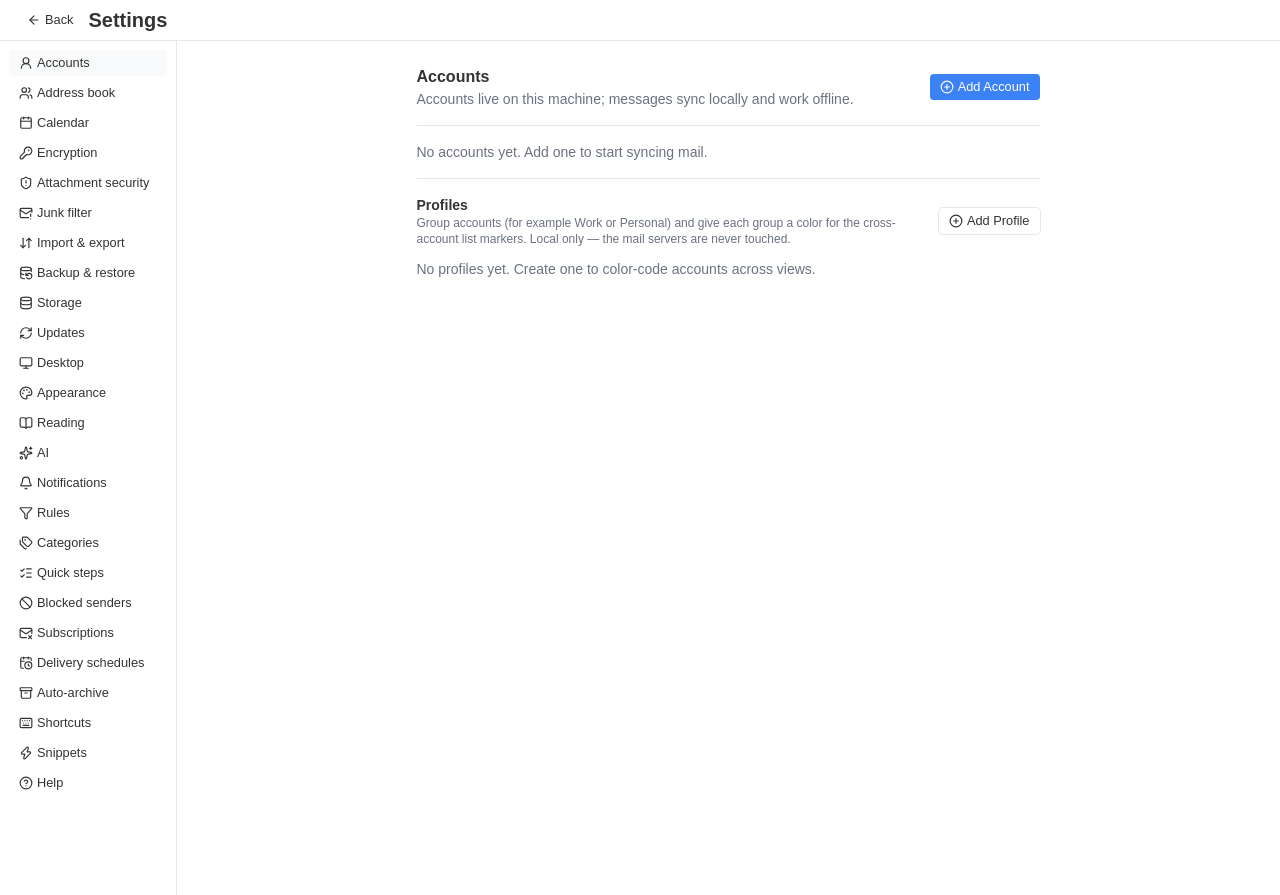
settings page navigation › renders the six sections in the nav and switches between them
expect the navigation bar named "Settings sections" shows "Accounts": met, box [8,49,168,77]
expect the navigation bar named "Settings sections" shows "Encryption": met, box [8,139,168,167]
Click the button "Appearance" at (88, 393), box [8,379,168,407]
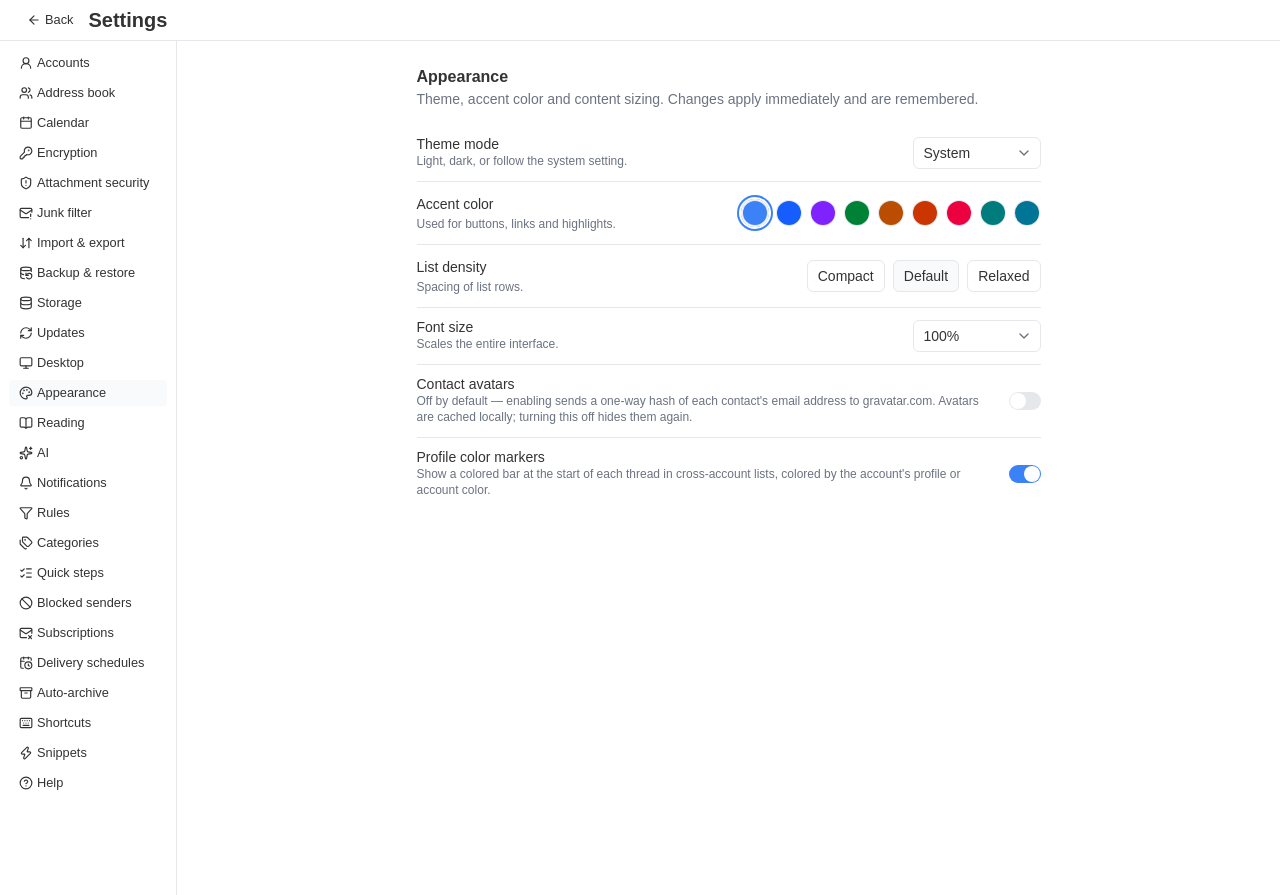
expect the heading "Appearance" is shown: met, box [416,68,508,85]
Click the button "Reading" at (88, 423), box [8,409,168,437]
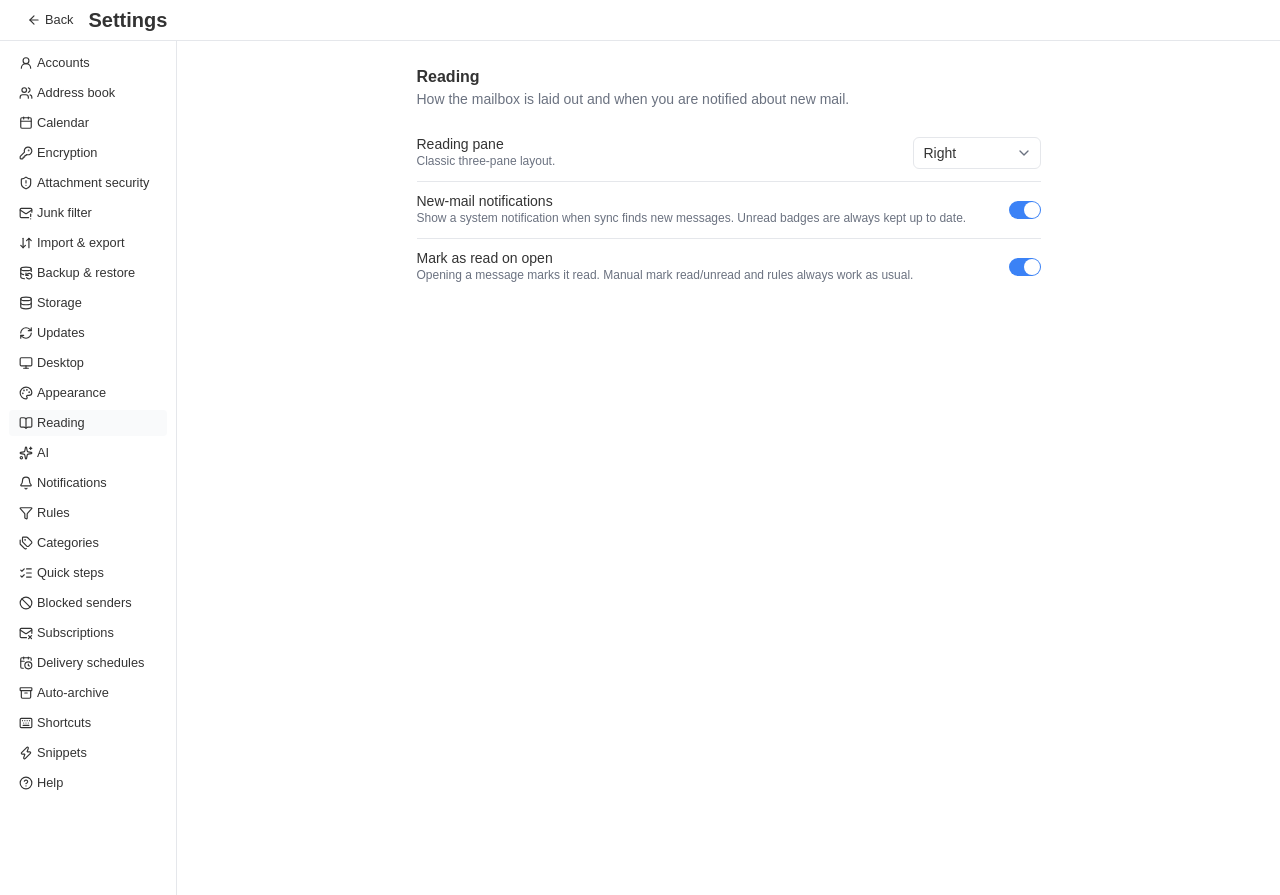
expect the heading "Reading" is shown: met, box [416,68,480,85]
Click the button "Auto-archive" at (88, 693), box [8,679,168,707]
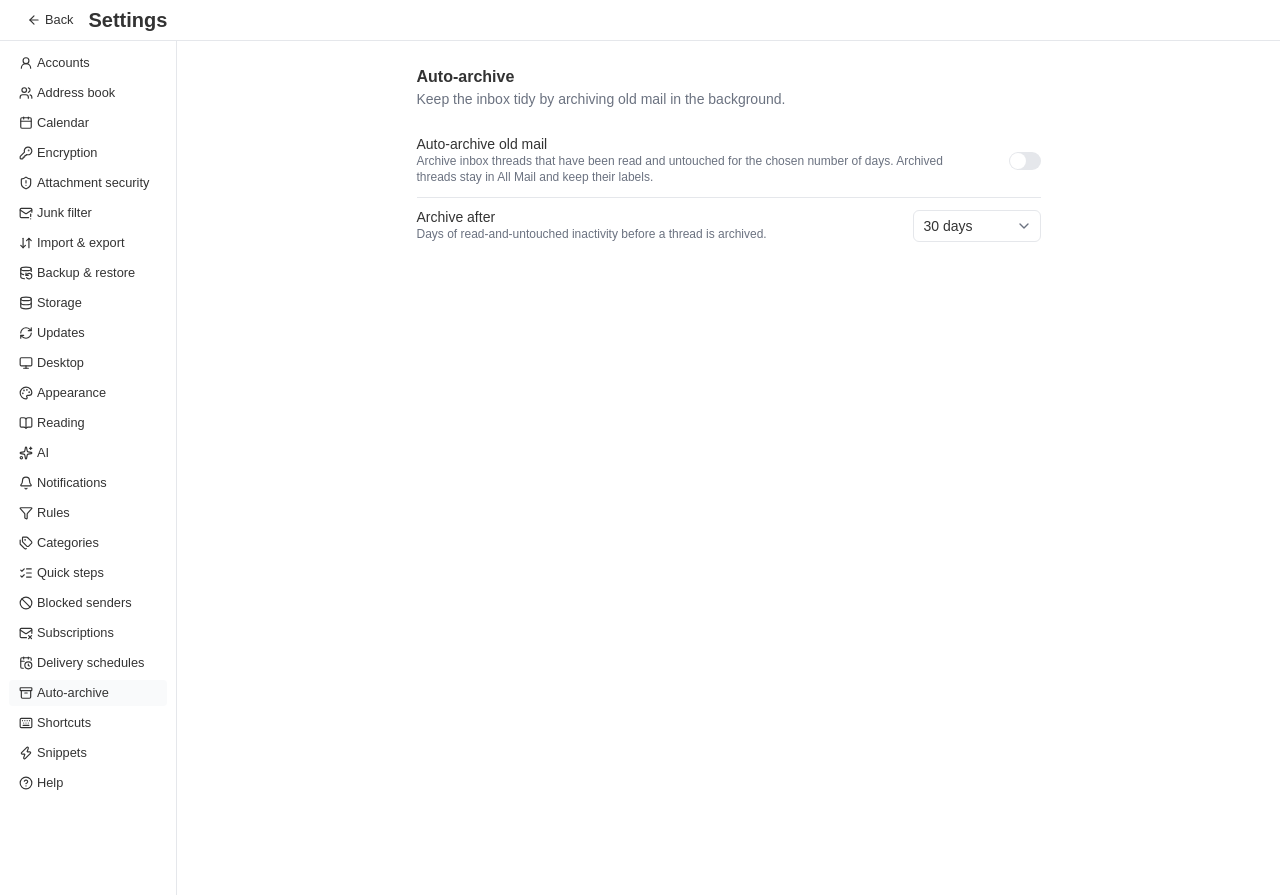
expect the heading "Auto-archive" is shown: met, box [416,68,514,85]
Note: Subscription manager (task 3.6): the settings entry point.
Click the button "Subscriptions" at (88, 633), box [8,619,168,647]
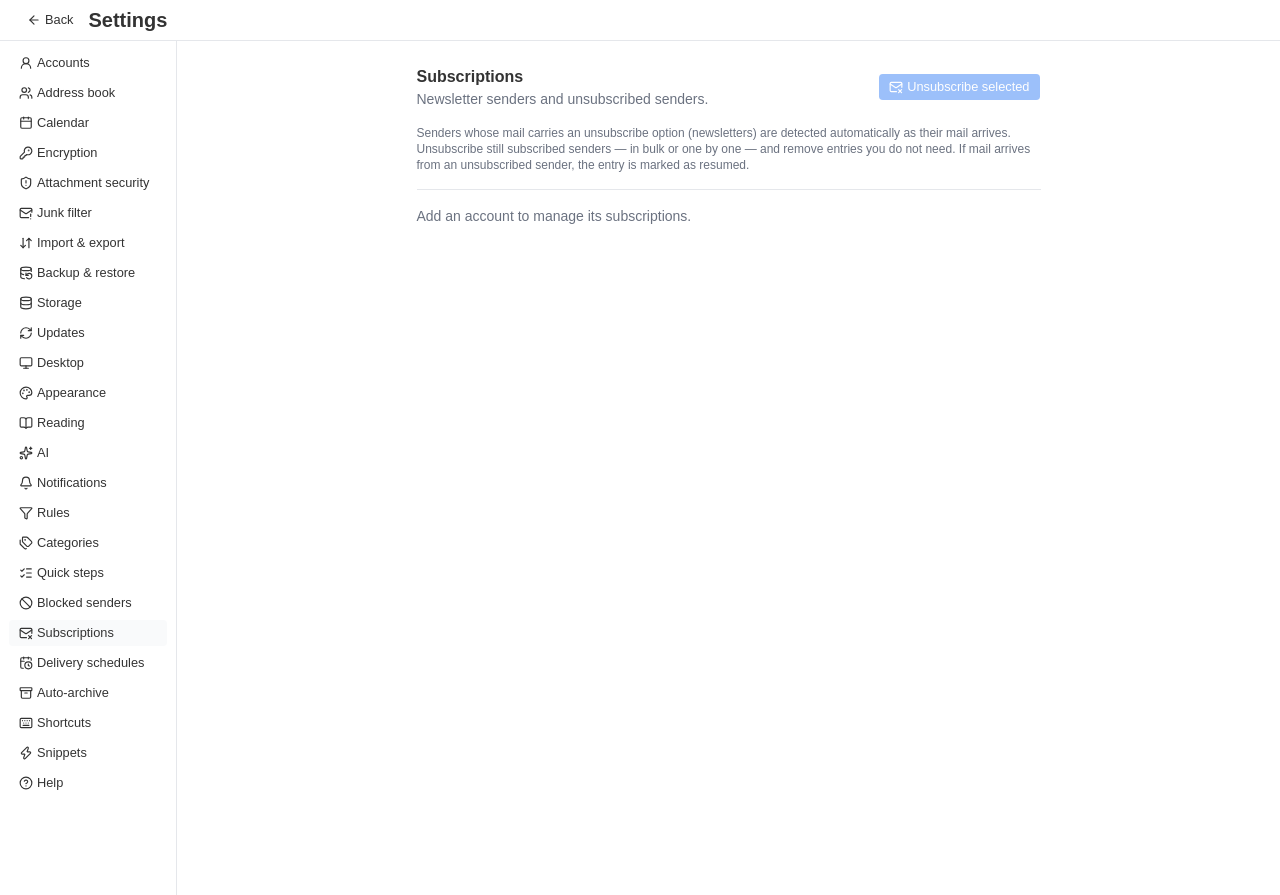
expect the heading "Subscriptions" is shown: met, box [416,68,523,85]
Click the button "Shortcuts" at (88, 723), box [8,709,168,737]
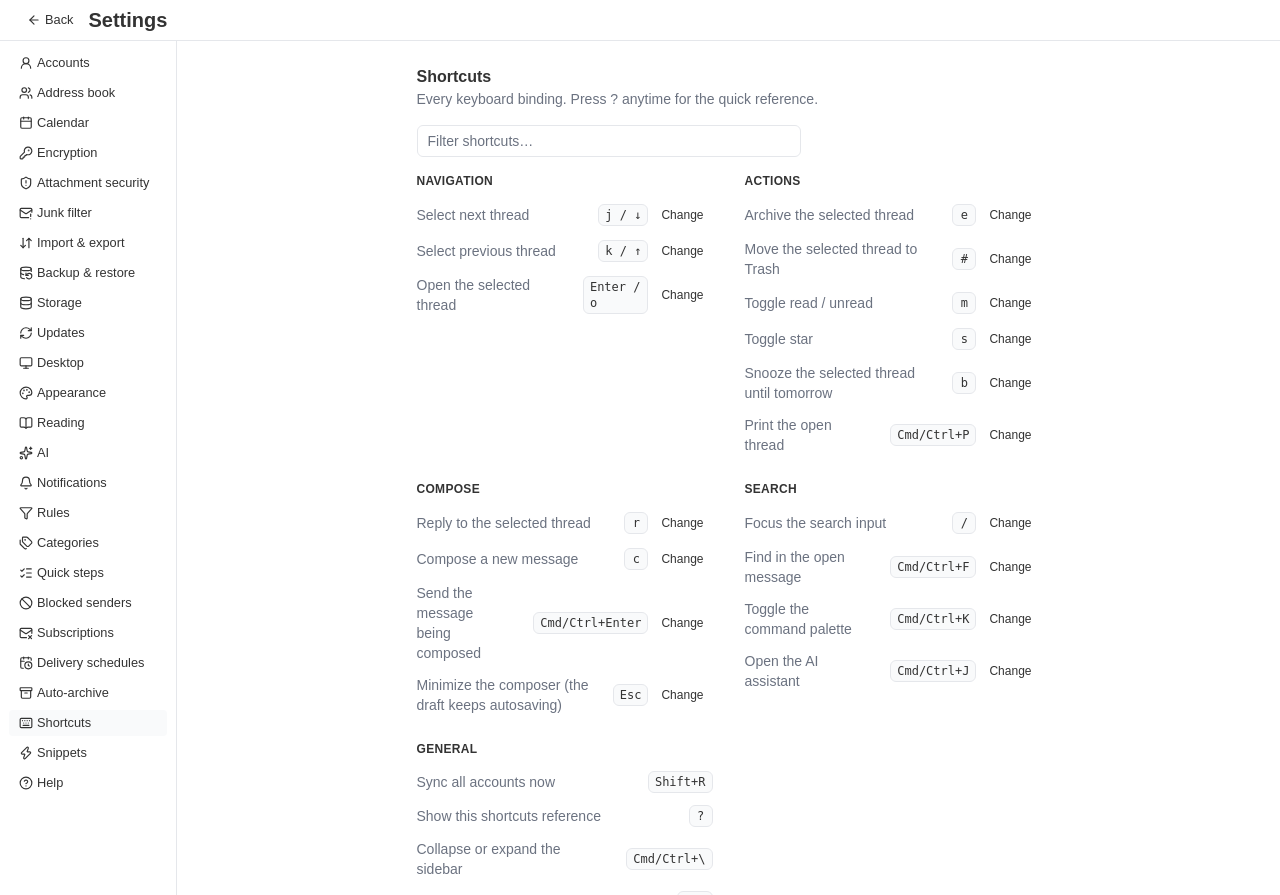
expect the heading "Shortcuts" is shown: met, box [416,68,491,85]
Click the button "Snippets" at (88, 753), box [8,739,168,767]
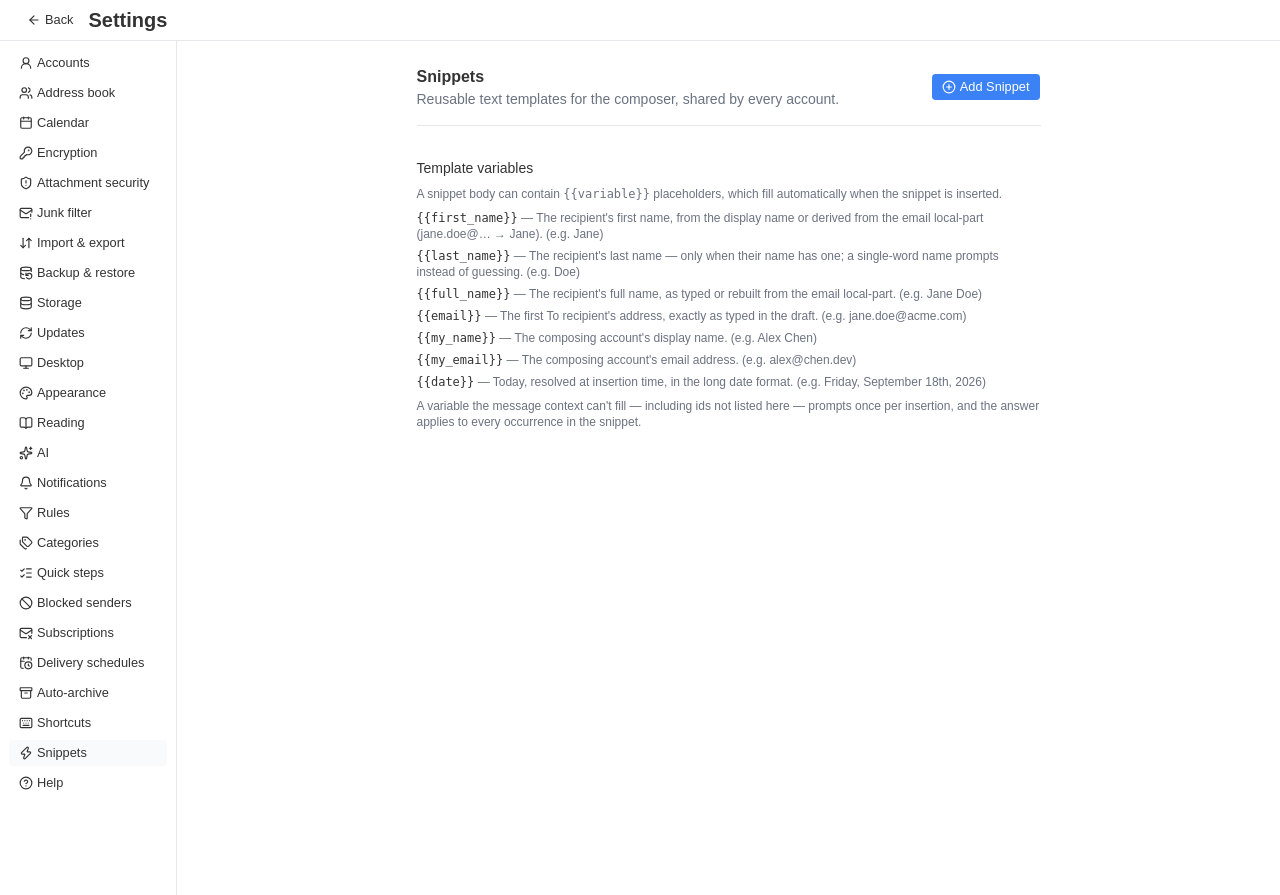
expect the heading "Snippets" is shown: met, box [416,68,484,85]
